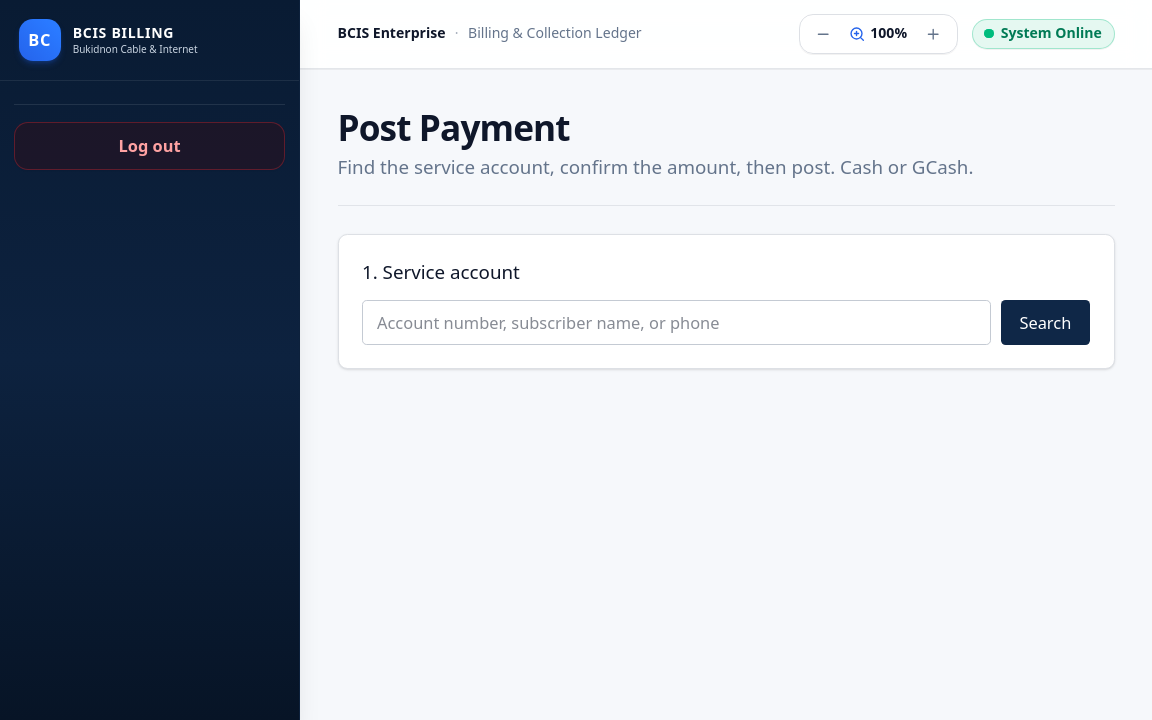
PostPaymentPage › posts a bank_transfer payment the same way it posts cash
Type "Dela Cruz" into the field with placeholder "Account number, subscriber name, or phone" at {"x": 677, "y": 322}, box [362,300,991,344]
Click the button "Search" at {"x": 1045, "y": 322}, box [1001,300,1090,344]
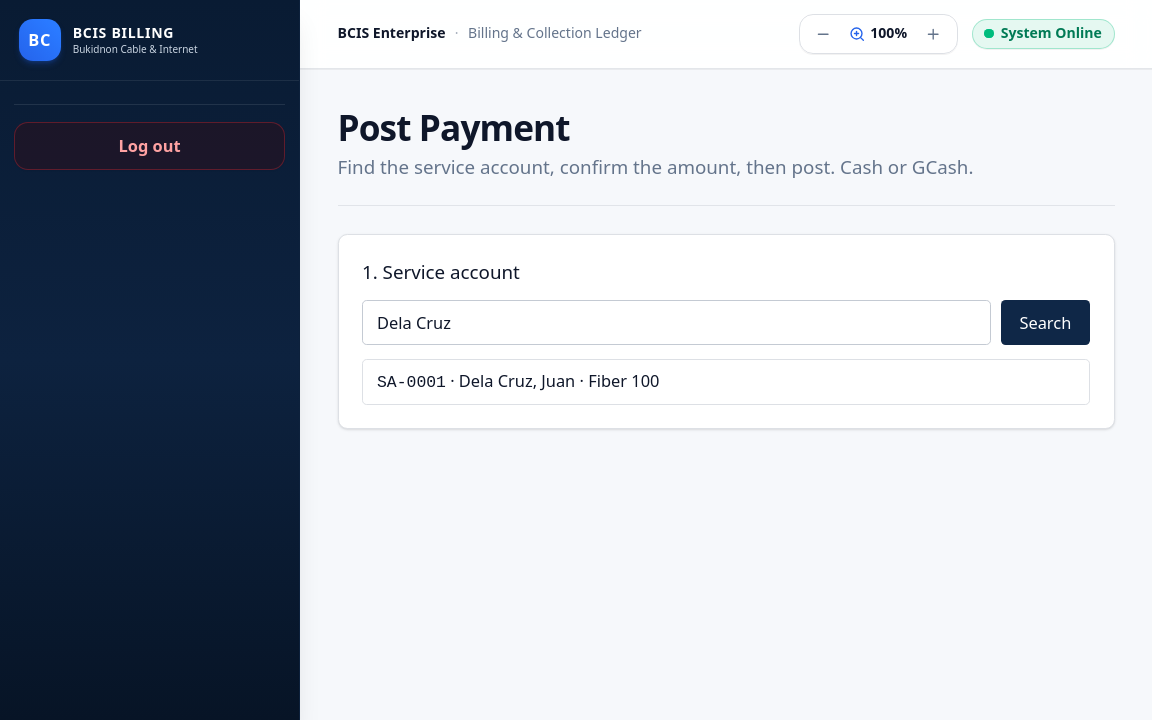
Click the button "SA-0001 · Dela Cruz, Juan · Fiber 100" at {"x": 411, "y": 382}, box [363,360,1089,404]
(page scrolled)
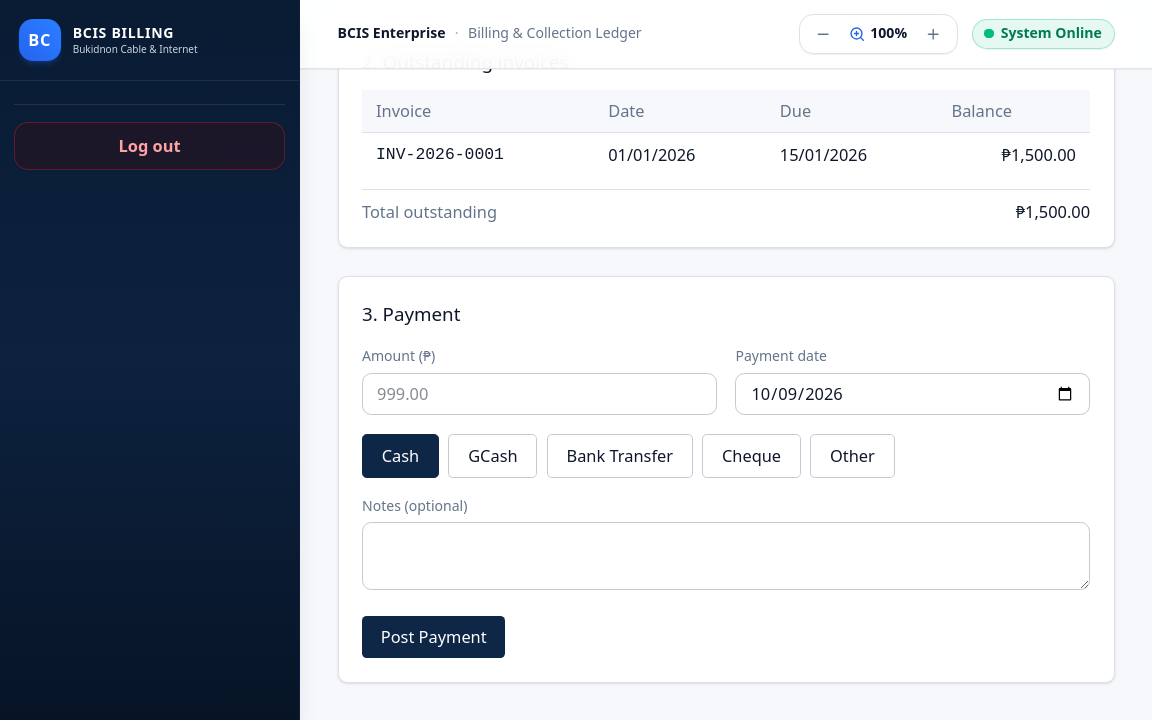
Result: the heading "3. Payment" is shown at [362,301,460,326]
Type "250" into the field labelled "Amount (₱)" at {"x": 539, "y": 394}, box [362,373,717,415]
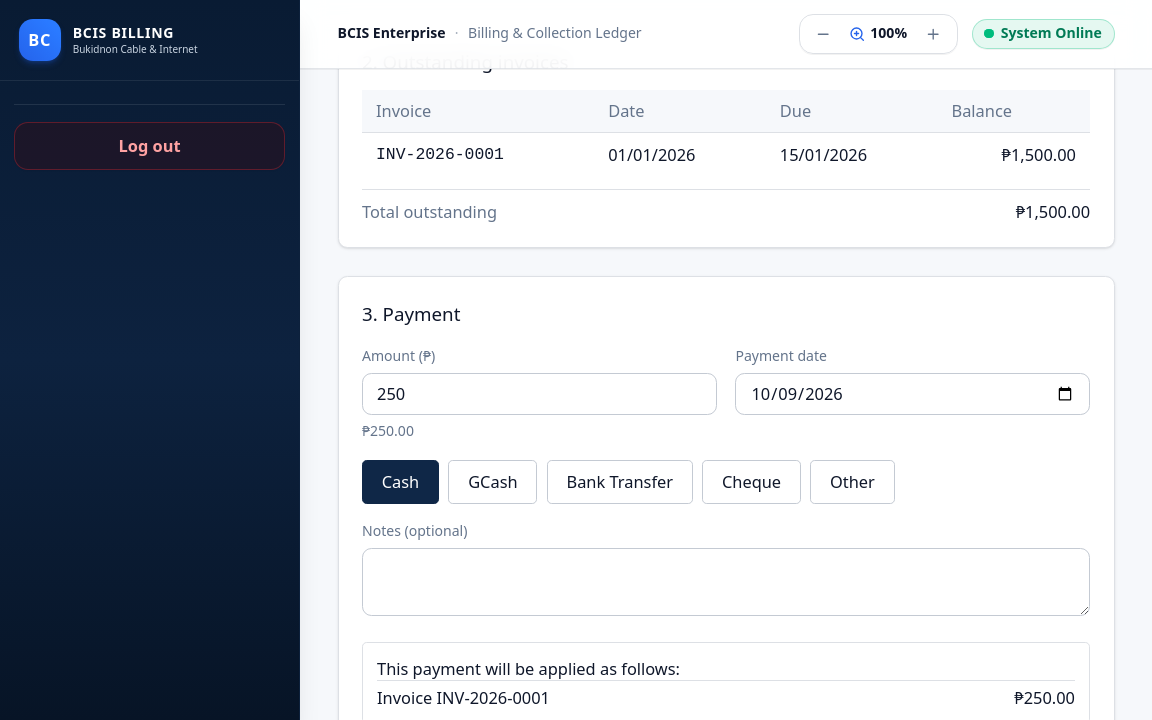
Type "2026-02-01" into the date field labelled "Payment date" at {"x": 913, "y": 394}, box [735,373,1090,415]
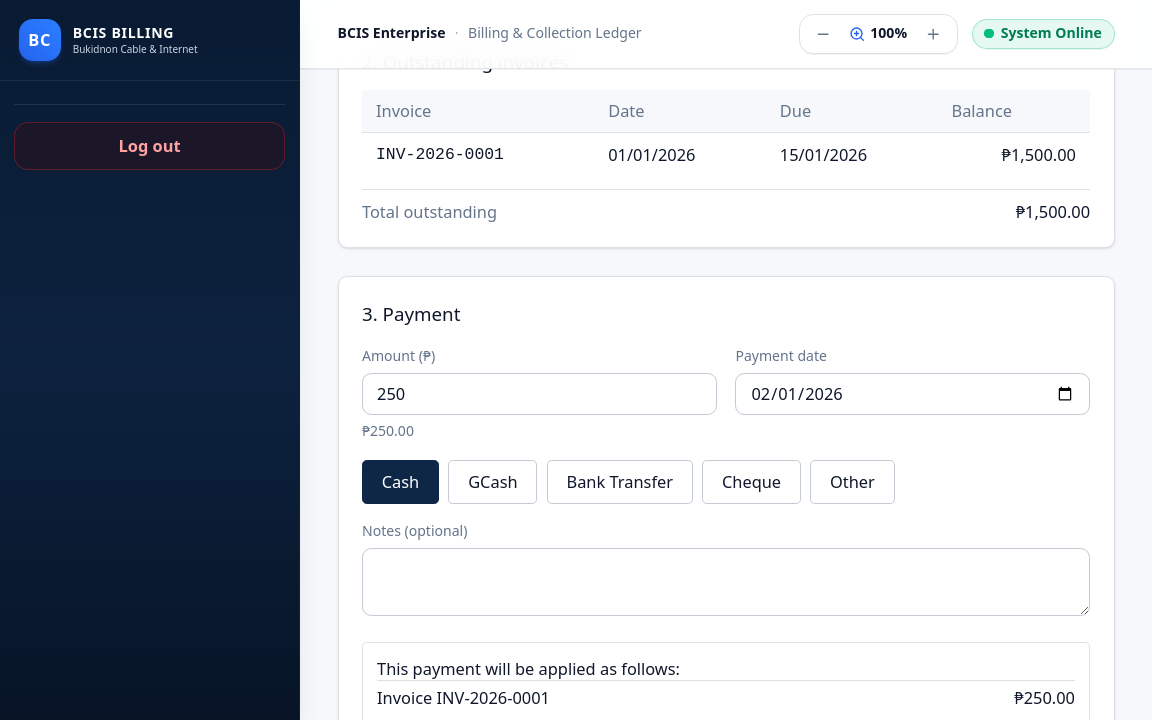
Click the button "Bank Transfer" at {"x": 620, "y": 482}, box [547,460,693,504]
(page scrolled)
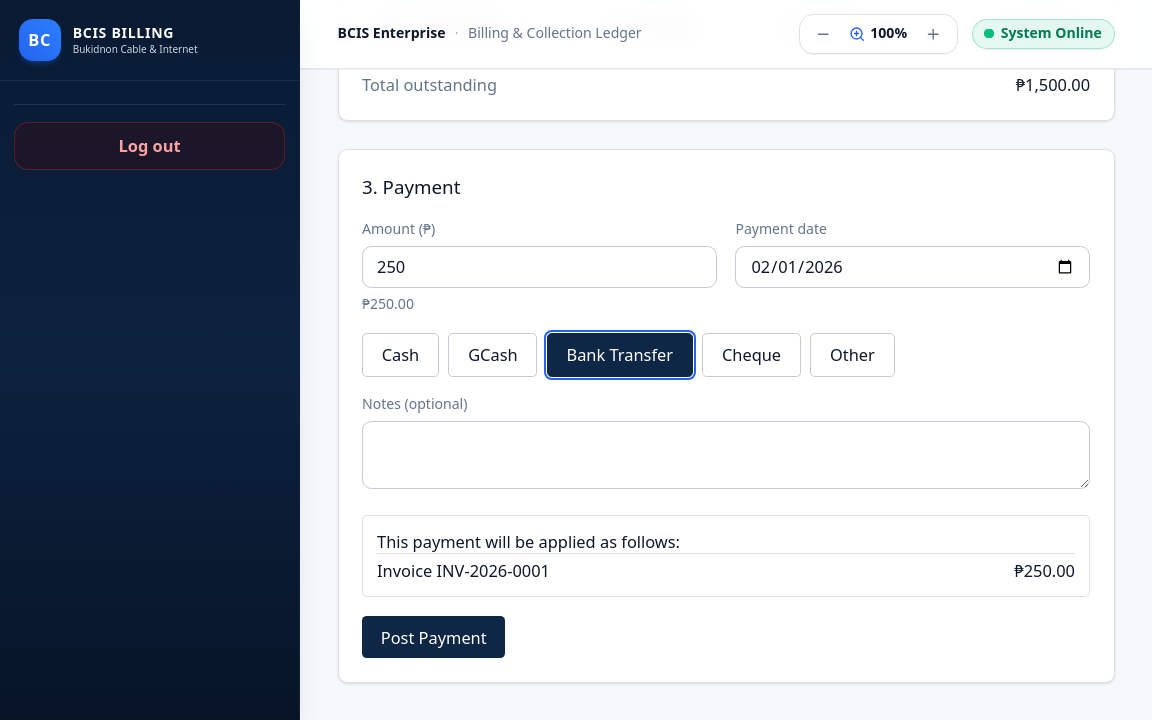
Click the button "Post Payment" at {"x": 434, "y": 637}, box [362,616,506,658]
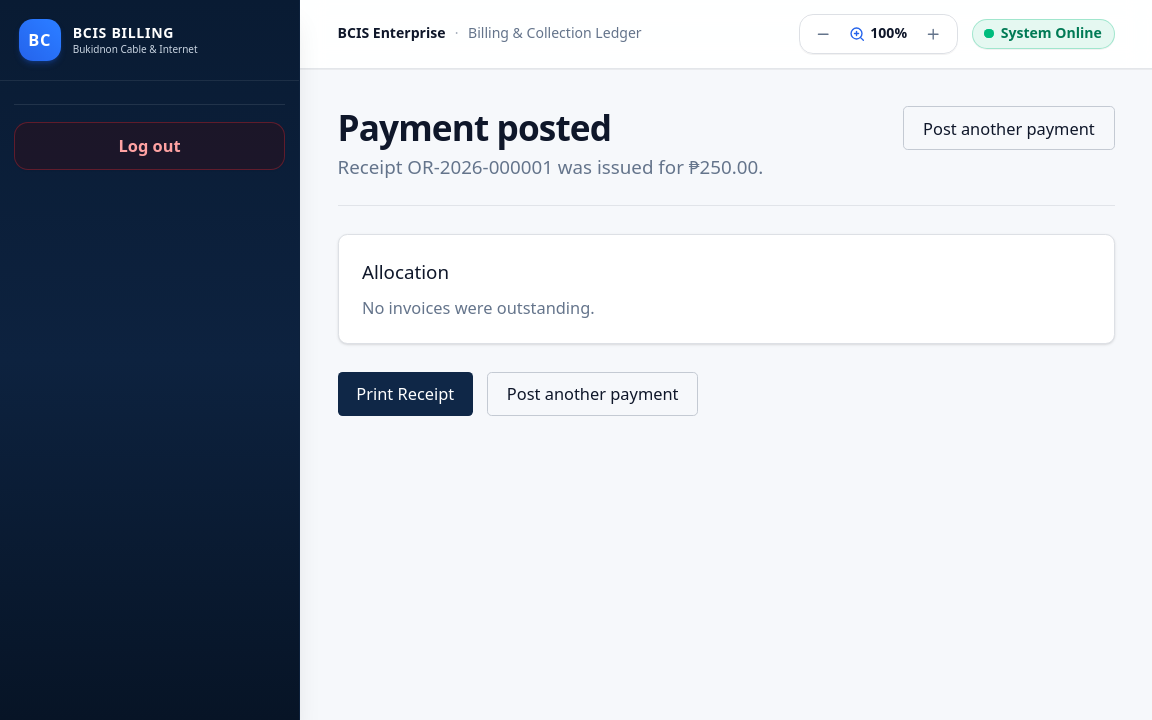
Result: the heading "Payment posted" is shown at [338,103,611,151]
